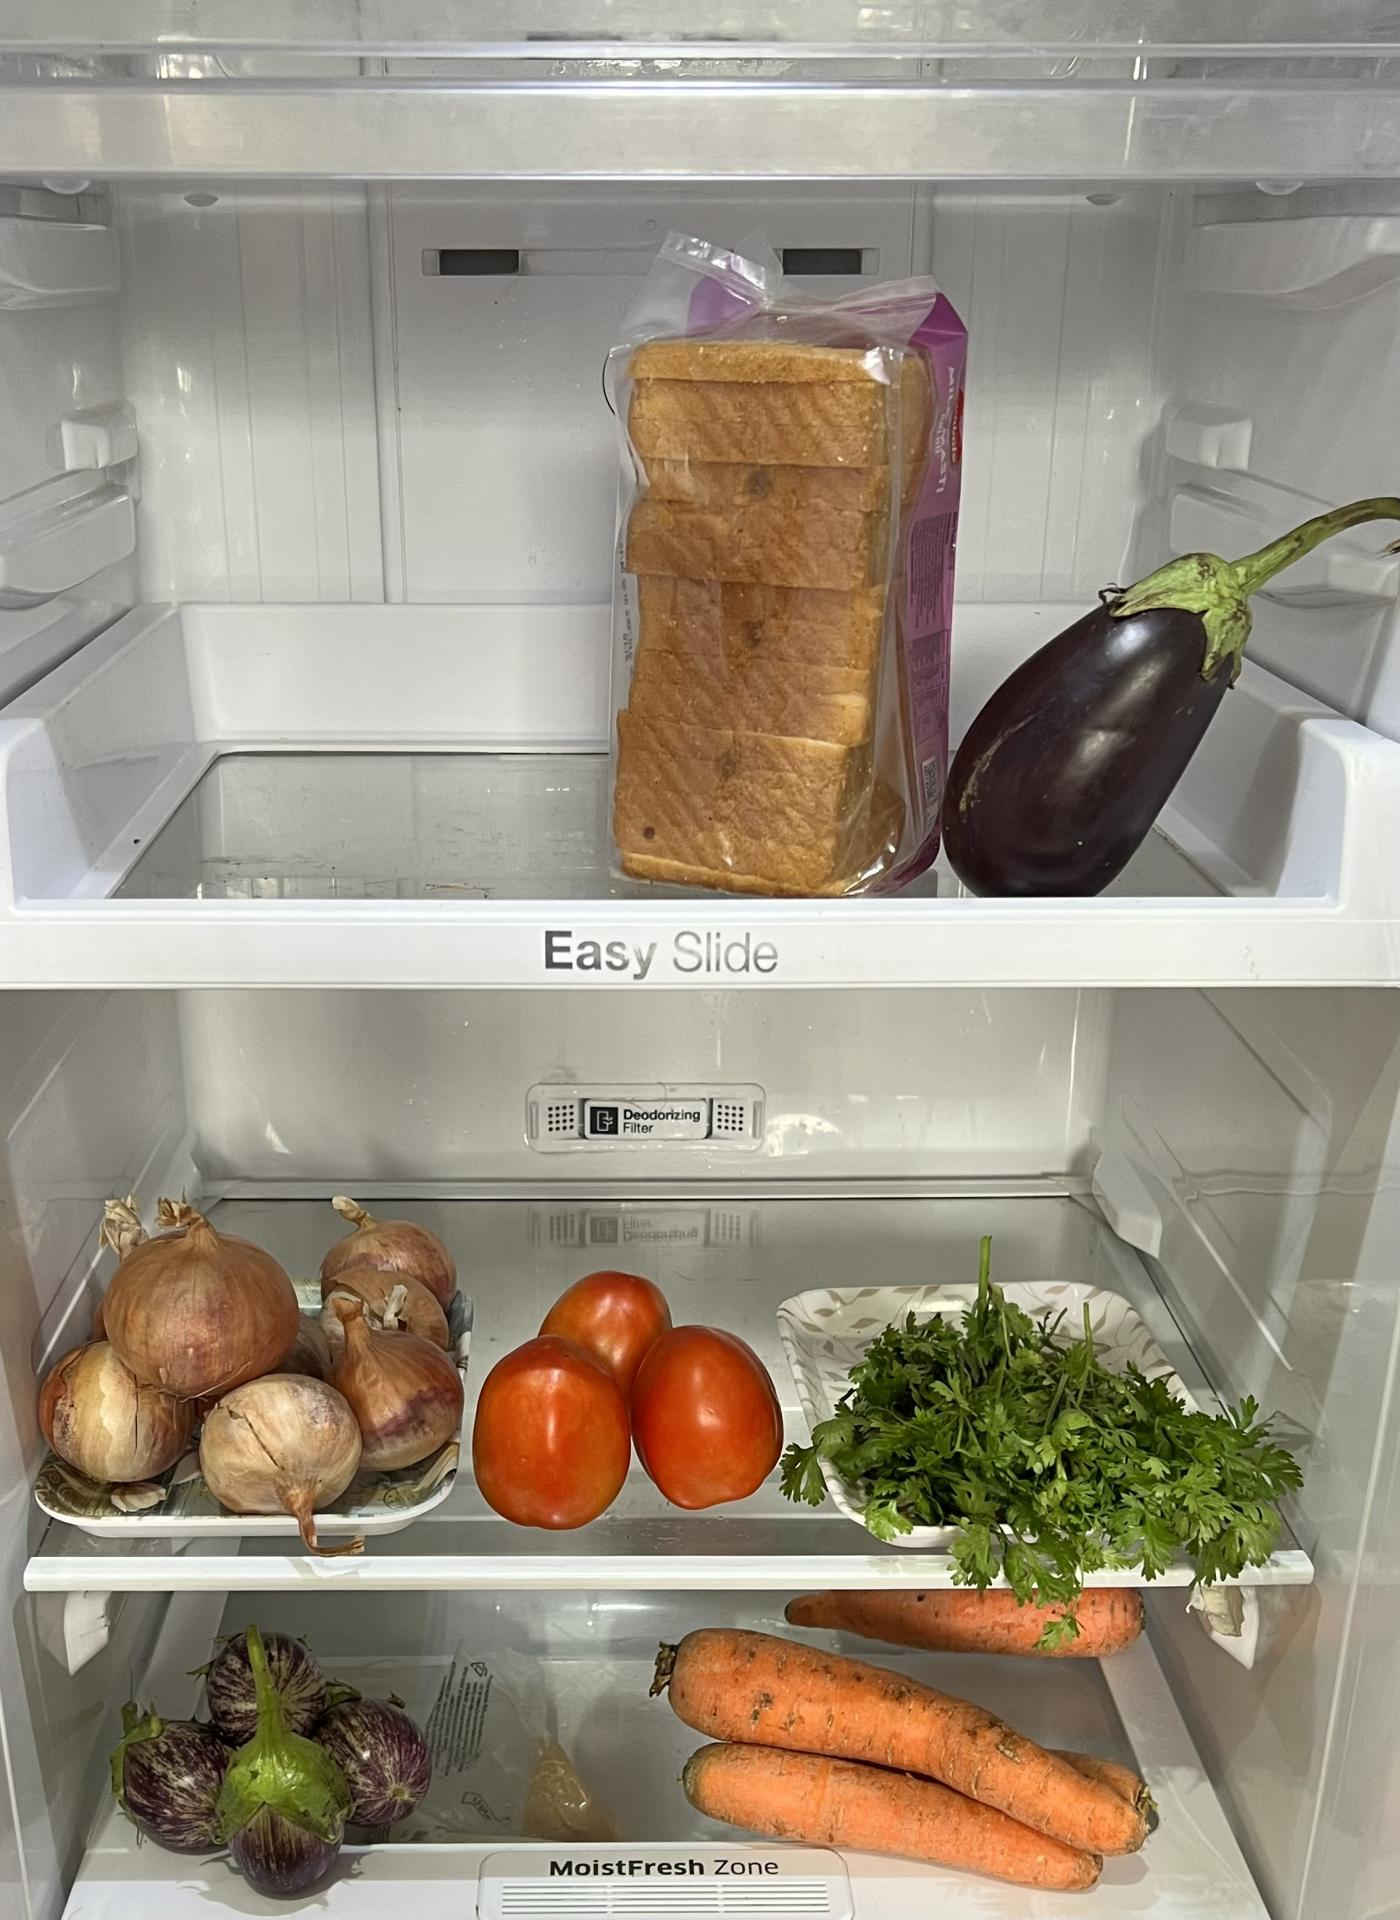bread: (590, 276, 962, 893)
carrots: (646, 1588, 1173, 1884)
coriander: (813, 1288, 1285, 1580)
onion: (27, 1199, 461, 1522)
tomato: (476, 1270, 772, 1518)
